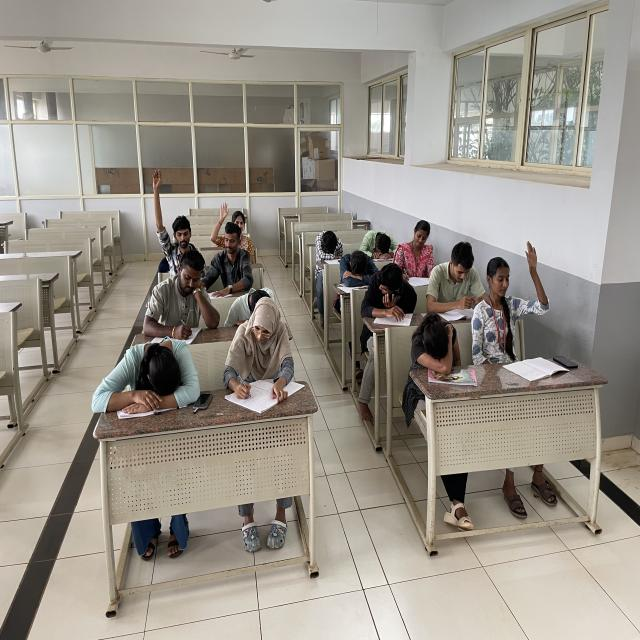Hand Rising: (475, 235, 549, 357), (147, 166, 205, 266), (214, 202, 254, 251)
Reading: (425, 238, 490, 312)
Sleeping: (90, 336, 210, 413), (404, 310, 466, 380), (217, 282, 283, 330), (334, 247, 382, 292), (307, 224, 348, 273), (356, 225, 402, 268)
Using Phone: (359, 260, 418, 329)
Writing: (222, 298, 293, 424), (138, 248, 224, 341), (391, 222, 443, 288)
